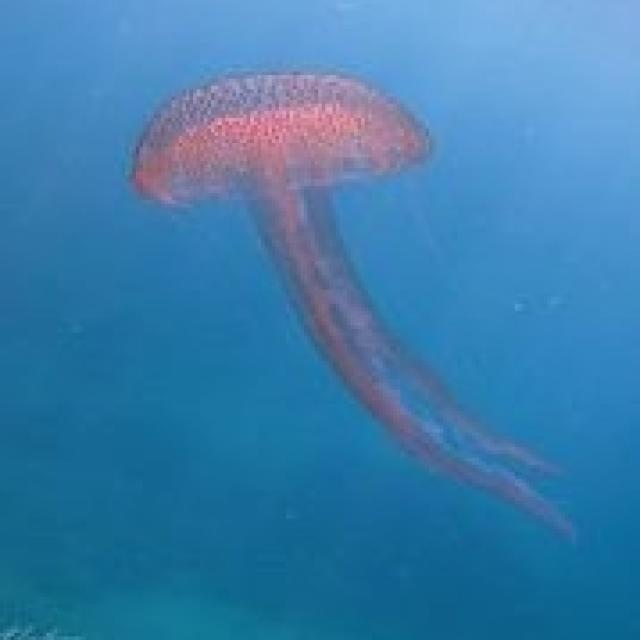Box-jellyfish: (125, 64, 576, 544)
